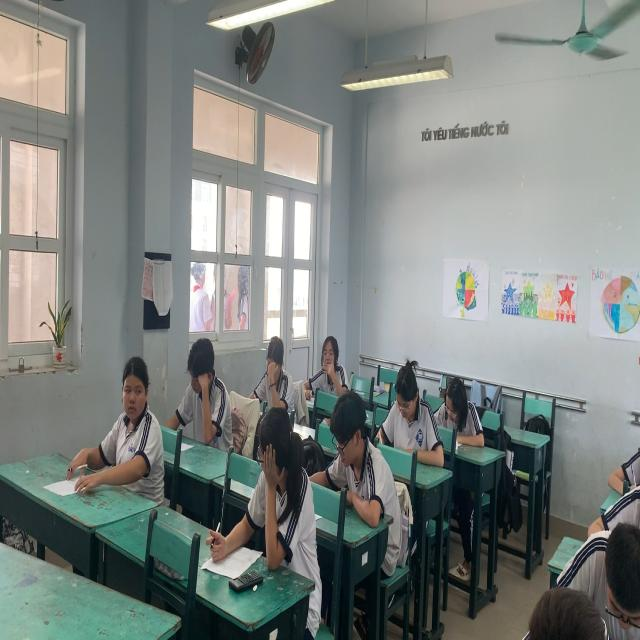cheating: (247, 411, 310, 573), (97, 345, 157, 483)
not_cheating: (326, 370, 387, 514), (386, 356, 439, 473), (179, 335, 229, 449), (431, 374, 486, 448), (252, 335, 291, 421), (311, 324, 352, 400)
